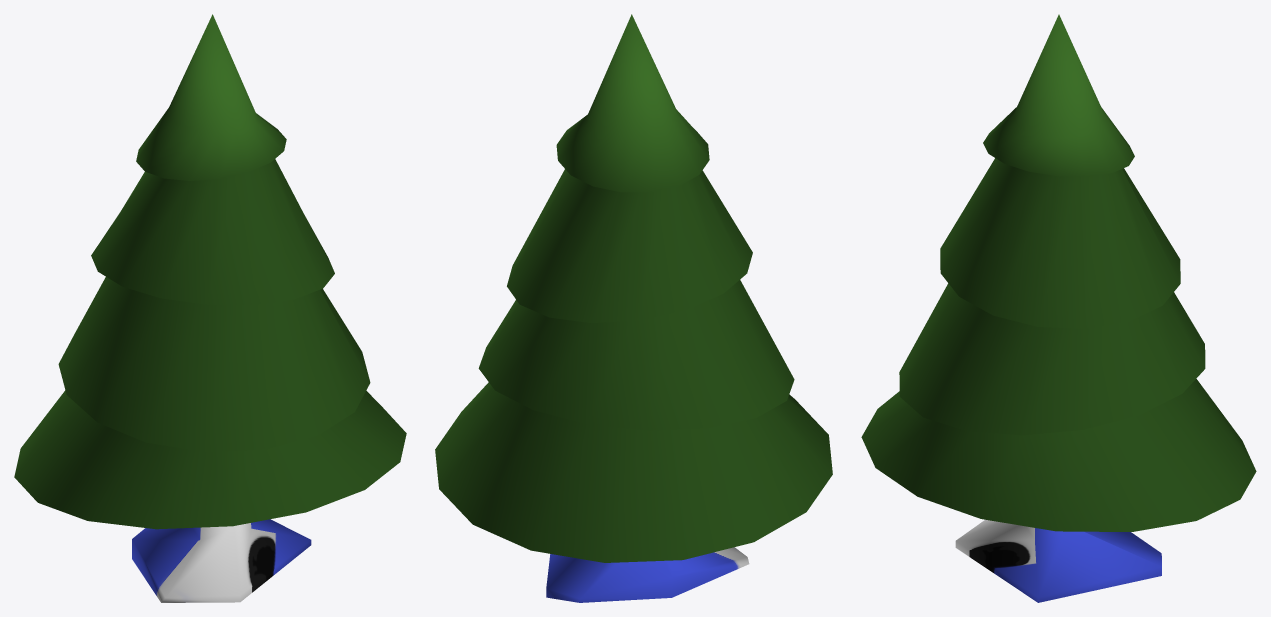
Rendered from new_trees.fbx.
3 renders of one model, left to right at view 1: azimuth 30°, elevation 25°; view 2: azimuth 150°, elevation 25°; view 3: azimuth 270°, elevation 25°, orthographic.
Visible parts, largest first — view 1: tree crown.003, Tree stem; view 2: tree crown.003, Tree stem; view 3: tree crown.003, Tree stem.
Boxes of the visible parts, <box> form: tree crown.003: <box>14,14,406,529</box>; Tree stem: <box>132,519,311,602</box>; tree crown.003: <box>435,14,832,562</box>; Tree stem: <box>546,547,749,602</box>; tree crown.003: <box>861,14,1256,531</box>; Tree stem: <box>955,519,1161,602</box>.
Size of the model in its own units: 1115 by 1695 by 1111.
